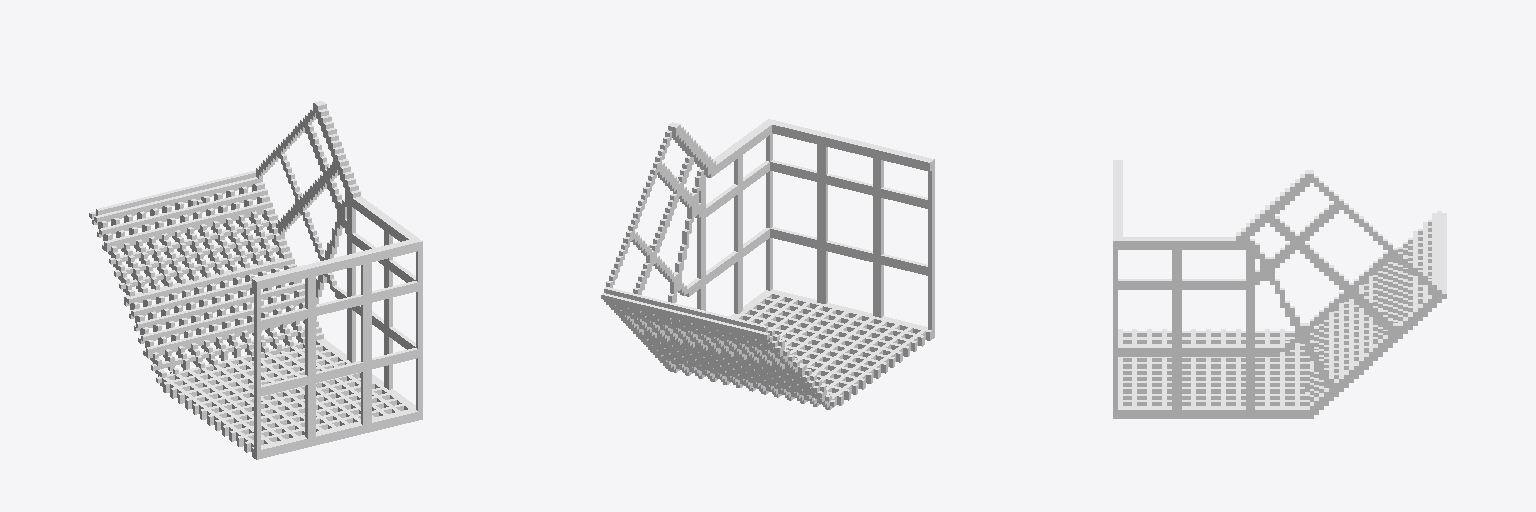
Rendered from emergency_exit_stair_up_flip.obj.
3 renders of one model, left to right at view 1: azimuth 30°, elevation 25°; view 2: azimuth 150°, elevation 25°; view 3: azimuth 270°, elevation 25°, orthographic.
Parts seen in each view (by area): view 1: object 1; view 2: object 1; view 3: object 1.
Boxes of the visible parts, x1,y1,x2,y2 form: object 1: [89, 101, 422, 459]; object 1: [601, 119, 934, 409]; object 1: [1113, 160, 1446, 418].
Bounding box in the file's own units: 3.9 × 5.5 × 6.8.